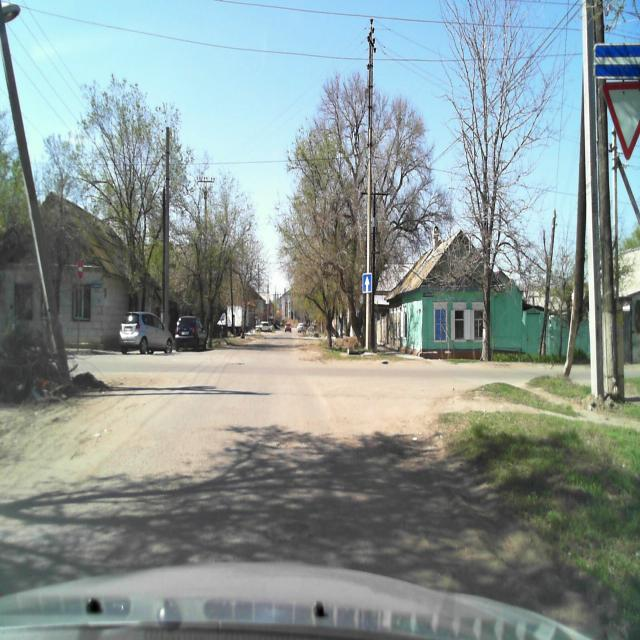road sign: (601, 81, 640, 164), (592, 51, 640, 78), (361, 271, 373, 292)
